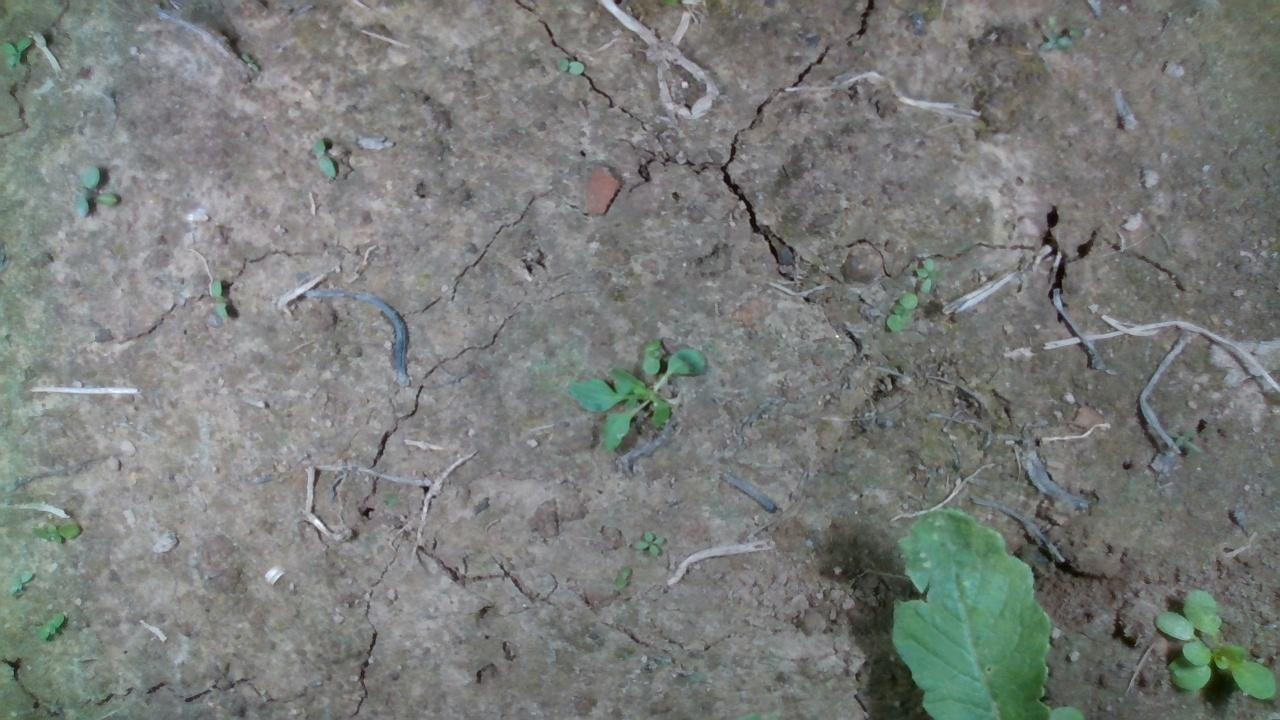weed: (30, 517, 80, 546), (884, 291, 916, 332), (311, 136, 336, 179), (629, 529, 664, 557), (7, 565, 34, 596), (209, 276, 228, 320), (37, 610, 65, 639), (553, 56, 586, 74), (613, 565, 629, 588)
